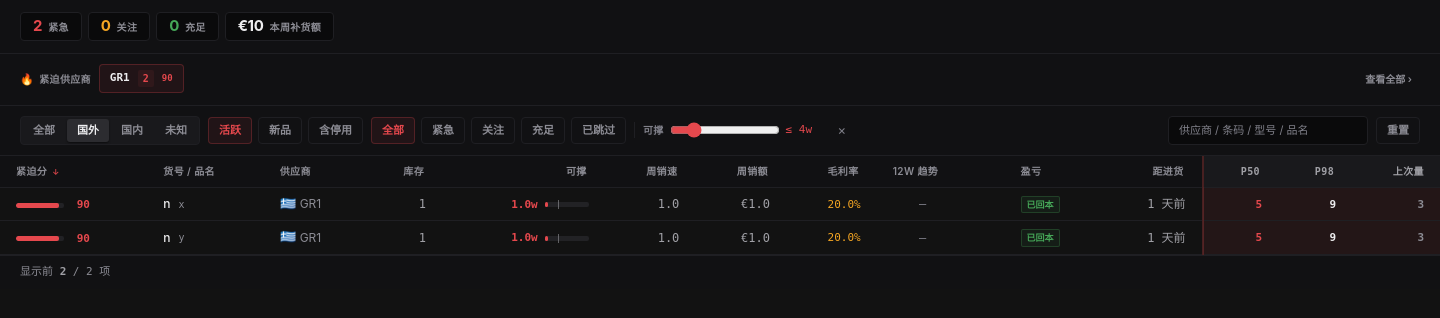
Test: RestockPage › 点行展开 drawer 行；再点收起
Click the 1st button with class "rs-row". click: {"x": 720, "y": 204}
box: [0, 187, 1439, 221]
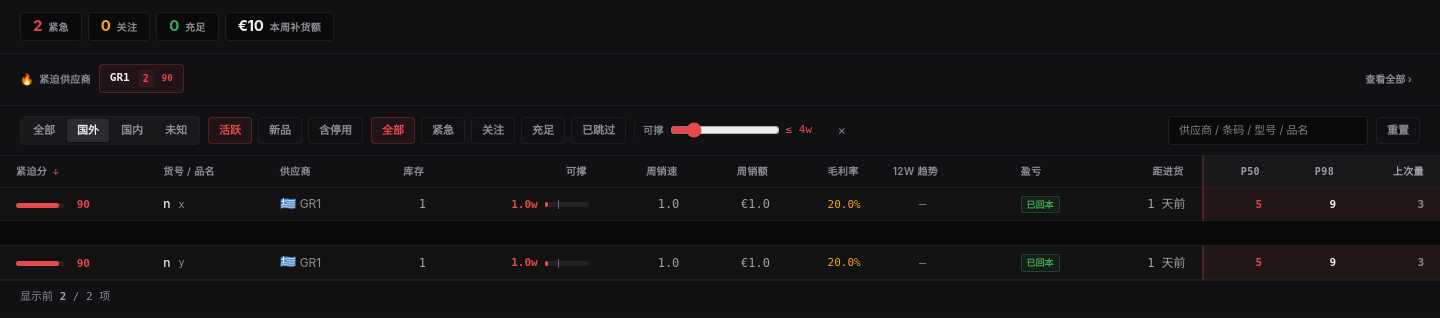
Result: the number of rows with class "rs-drawer-row" is 1 at [0, 221, 1439, 246]
Click the 1st button with class "rs-row". click: {"x": 720, "y": 204}
box: [0, 187, 1439, 221]
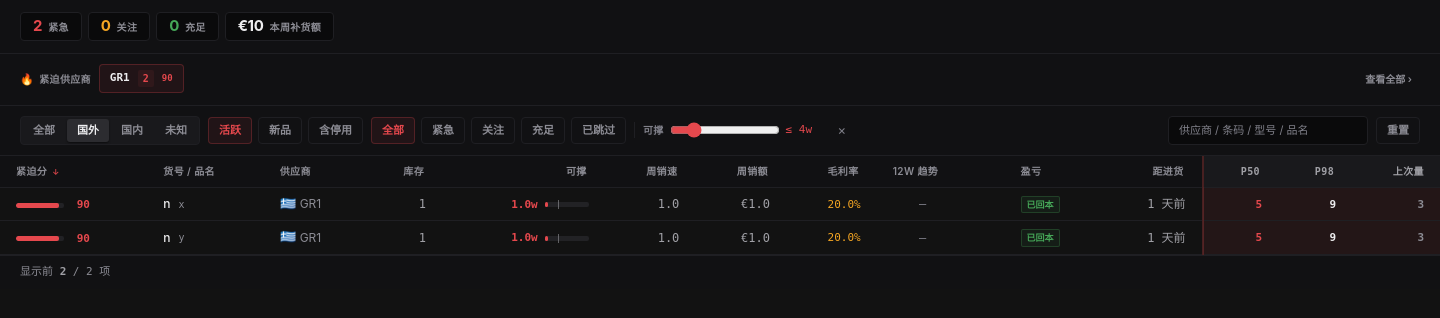
Result: no rows with class "rs-drawer-row" are shown
